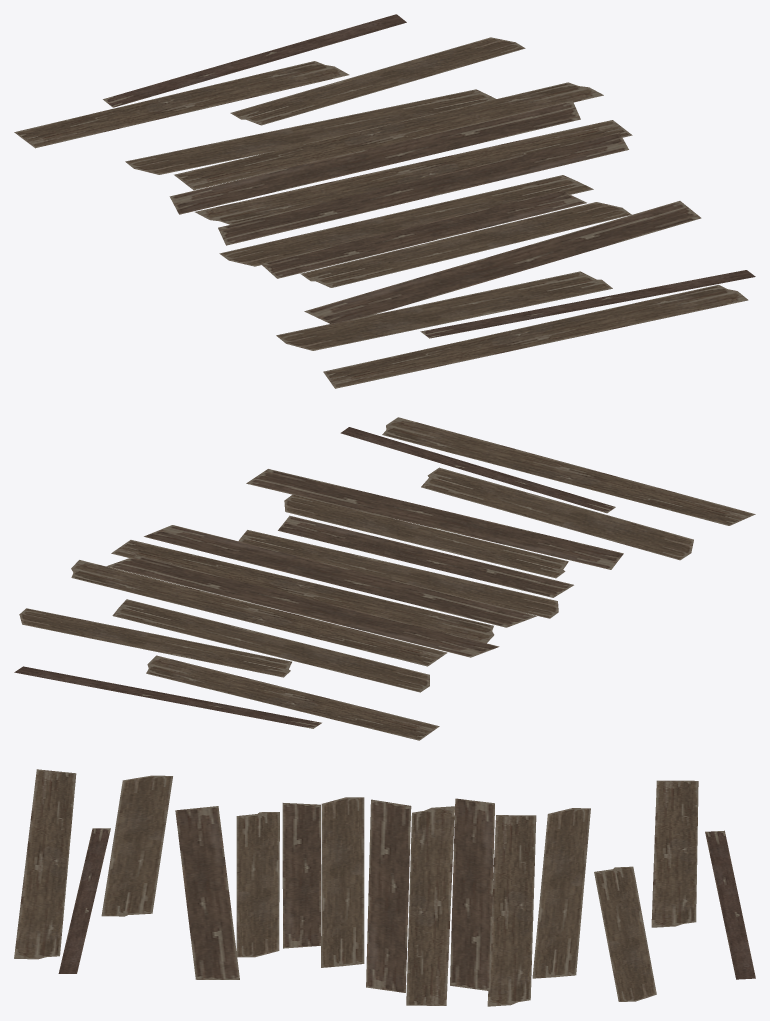
Rendered from i_xzcw_muban05_01_lod1.FBX.
3 renders of one model, top to bottom at view 1: azimuth 30°, elevation 25°; view 2: azimuth 150°, elevation 25°; view 3: azimuth 270°, elevation 25°, orthographic. The views are drawn at different scales.
Visible parts, largest first — view 1: i_xzcw_muban05_01_lod1; view 2: i_xzcw_muban05_01_lod1; view 3: i_xzcw_muban05_01_lod1.
Boxes of the visible parts, bbox=[...] form: i_xzcw_muban05_01_lod1: bbox=[14, 14, 755, 388]; i_xzcw_muban05_01_lod1: bbox=[14, 417, 755, 740]; i_xzcw_muban05_01_lod1: bbox=[14, 769, 755, 1006].
Size of the model in its own units: 5.33 by 0.0946 by 7.07.
